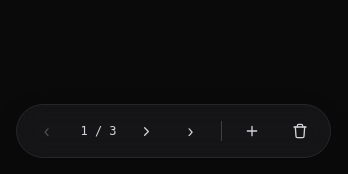
Test: PageNav › rail toggle › is a separate control from the page-count text, so jump-to-page and rail-toggle never collide
The width and height of the screenshot is (348, 174).
Click the button named "Show page thumbnails". click: (146, 131)
box: [128,113,164,149]
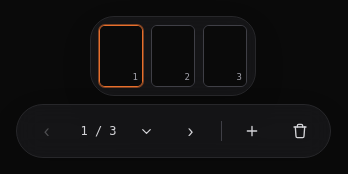
Check: the button named "Hide page thumbnails" is shown, box [128,113,164,149]
